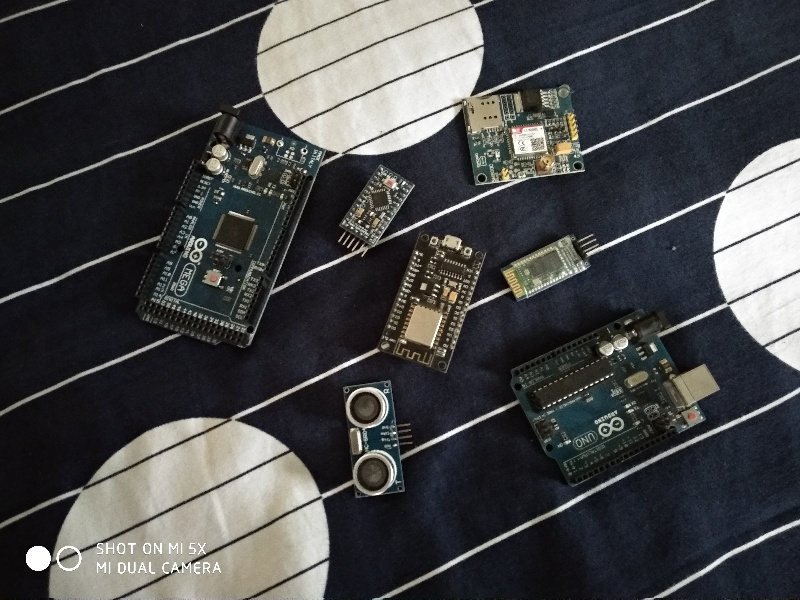Arduino Mega 2560: (124, 100, 333, 353)
Arduino Pro Mini: (339, 162, 419, 252)
Arduino UNO: (507, 307, 724, 494)
HC-05: (501, 228, 593, 304)
NodeMCU: (373, 229, 487, 375)
SIM800: (459, 82, 591, 187)
Sonar Sensor: (332, 379, 415, 500)
